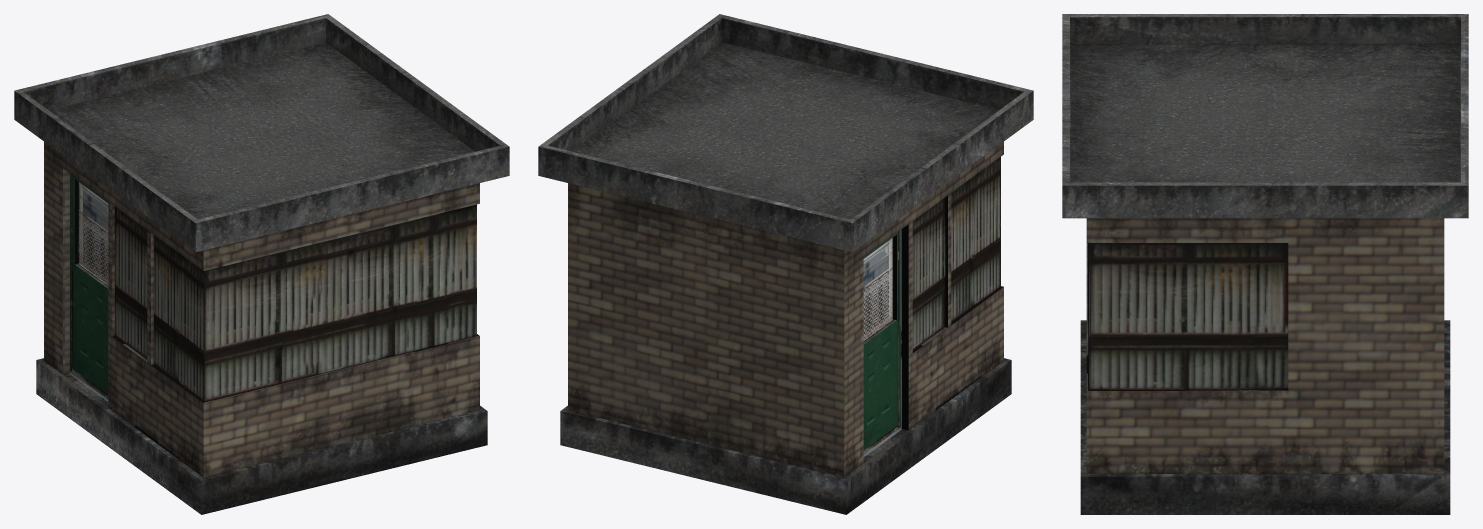
File: guardHouse.fbx
3 views of the same model, side by side, from view 1: azimuth 30°, elevation 25°; view 2: azimuth 150°, elevation 25°; view 3: azimuth 270°, elevation 25° (orthographic). The views are drawn at different scales.
Parts seen in each view (by area): view 1: guardHouse; view 2: guardHouse; view 3: guardHouse.
Boxes of the visible parts, <box> form: guardHouse: <box>14,14,509,514</box>; guardHouse: <box>538,14,1033,514</box>; guardHouse: <box>1062,14,1468,514</box>.
Size of the model in its own units: 6586 by 6032 by 6586.
